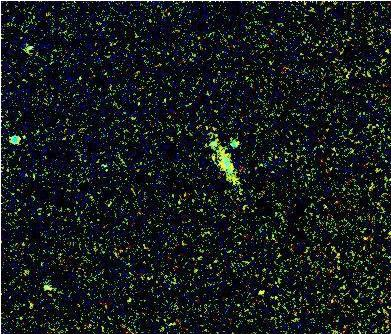star: (248, 276, 278, 306)
